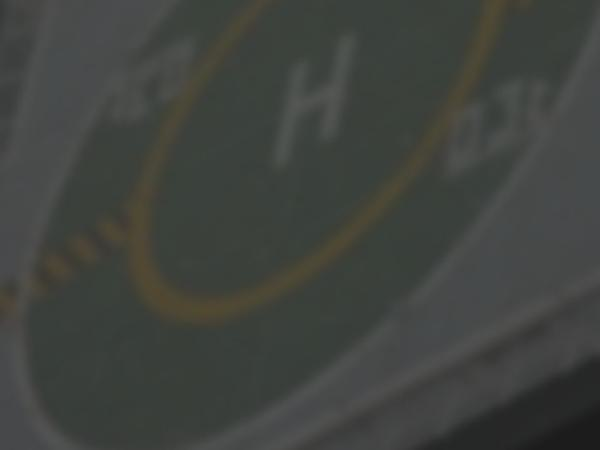Apron: (165, 2, 389, 268)
